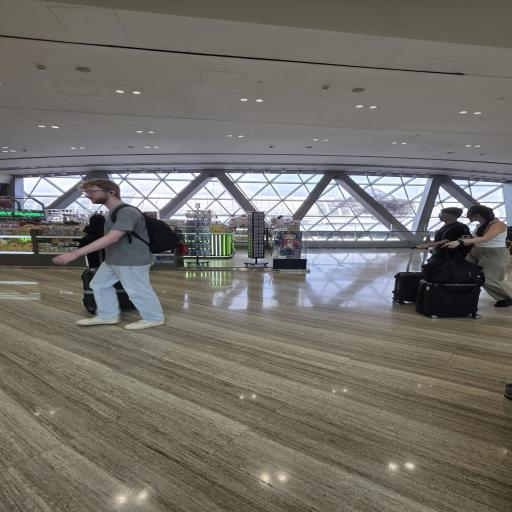person_with_luggage_left: (70, 168, 186, 328), (418, 206, 512, 316), (390, 198, 469, 302)
